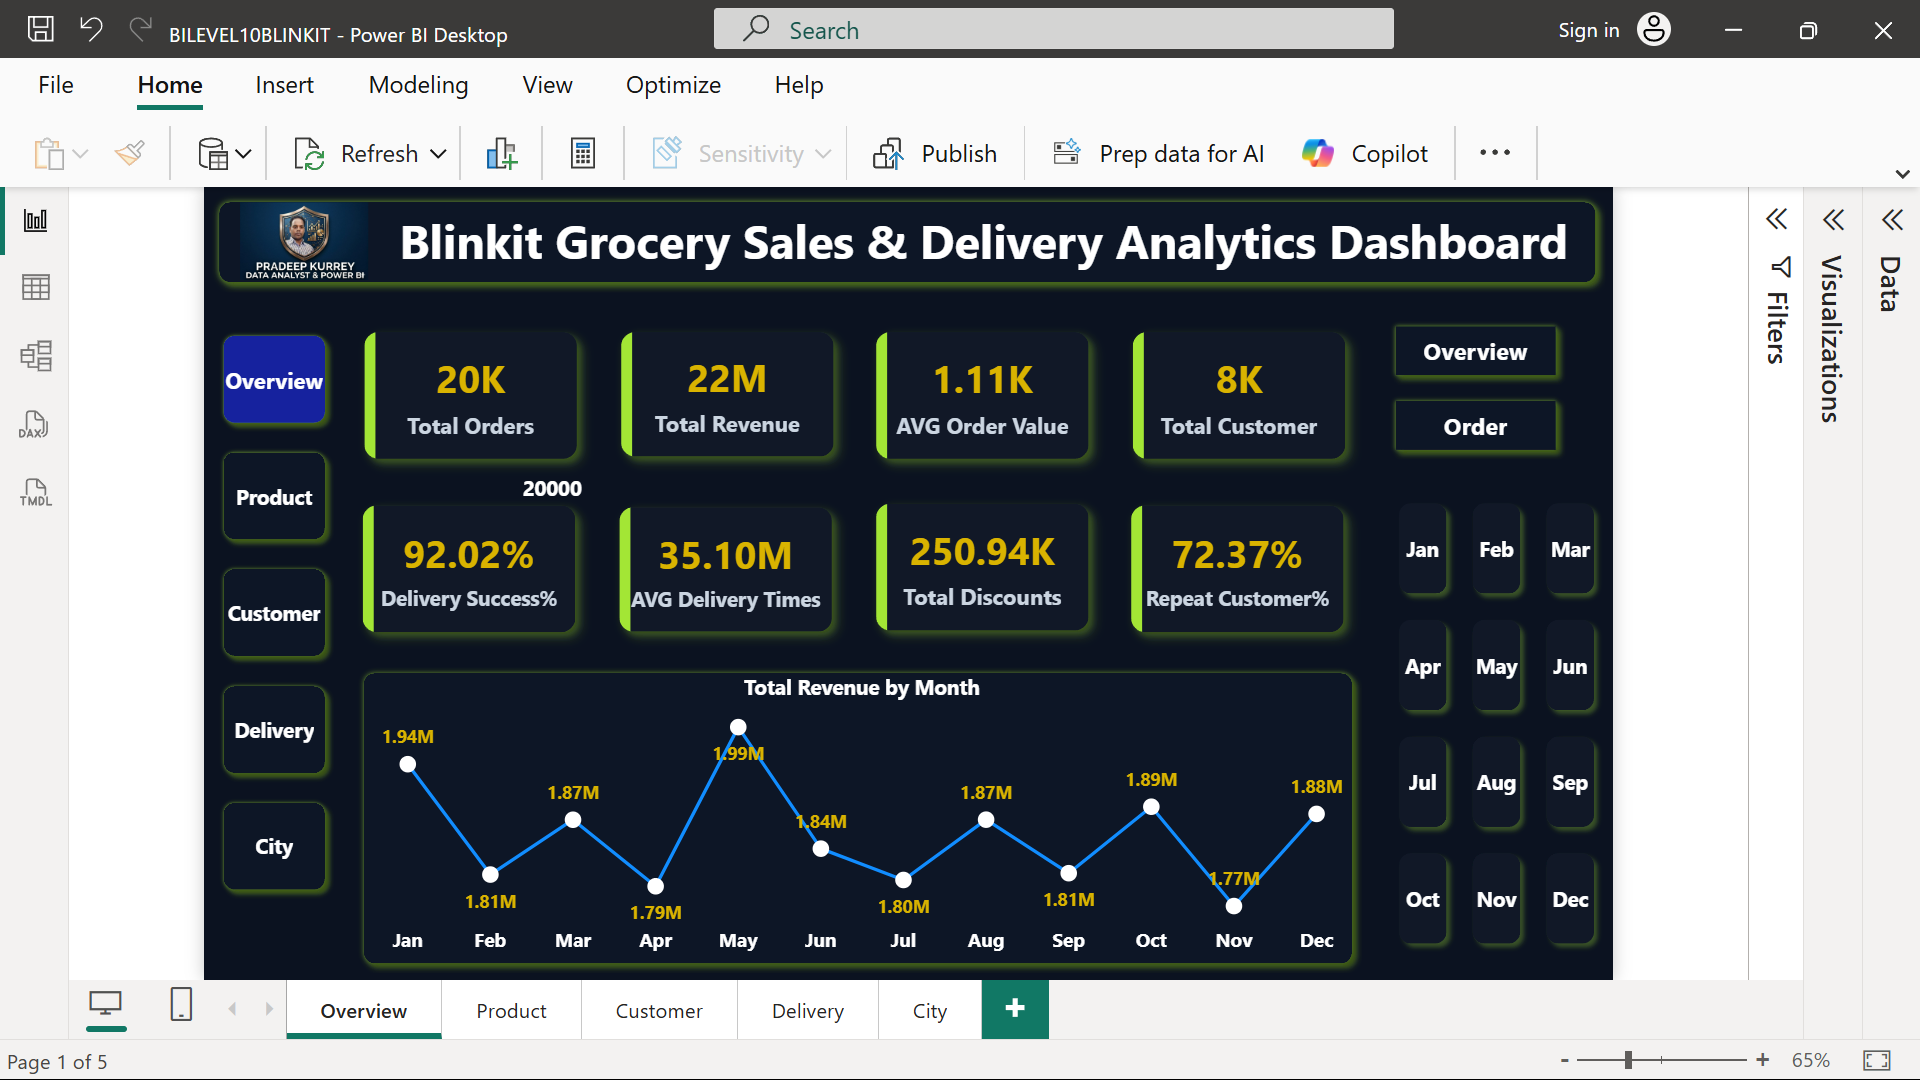

This screenshot's page, from the dashboard's own definition file:
{"tool":"powerbi","page":{"name":"Overview","canvas":[1280,720],"ordinal":0},"visuals":[{"type":"shape","box":[4.5,4.5,1268.2,90.9],"z":0},{"type":"textbox","box":[9.1,13.6,1247.7,70.5],"z":1000},{"type":"image","box":[9.1,13.6,163.6,70.5],"z":2000},{"type":"pageNavigator","box":[9.1,127.3,109.1,522.7],"z":4000},{"type":"shape","box":[136.4,431.8,915.9,281.8],"z":12000},{"type":"shape","box":[140.9,106.8,450,306.8],"z":14000},{"type":"shape","box":[604.5,104.5,450,306.8],"z":15000},{"type":"lineChart","fields":{"Category":["Date Table.Month"],"Y":["Date Table.Total Orders"]},"box":[145.5,440.9,895.4,263.6],"z":16000},{"type":"donutChart","fields":{"Y":["Date Table.Total Orders"],"Category":["Sheet1.Delivery_Status"]},"box":[143.2,115.9,445.4,288.6],"z":17000},{"type":"clusteredColumnChart","fields":{"Category":["Sheet1.Category"],"Y":["Date Table.Total Revenue"]},"box":[611.4,114.3,447.8,299.5],"z":18000},{"type":"actionButton","box":[1072.7,117.7,163.8,62.6],"z":19000},{"type":"actionButton","box":[1072.7,185.8,163.8,62.6],"z":20000},{"type":"advancedSlicerVisual","fields":{"Values":["Date Table.Month"]},"box":[1068.5,270.2,211.5,435.4],"z":21000},{"type":"textbox","box":[279.7,248.4,73.6,49.7],"z":22000}]}

Visuals, with their boxes on the page's 1280x720 design canvas (x1, y1, x2, y2). These are canvas units, not pixel positions in the 1920x1080 screenshot, which may show the page scaled, cropped or inside an application window:
shape: 4:4:1273:95
textbox: 9:14:1257:84
image: 9:14:173:84
pageNavigator: 9:127:118:650
shape: 136:432:1052:714
shape: 141:107:591:414
shape: 604:104:1054:411
lineChart - Date Table.Month x Date Table.Total Orders: 146:441:1041:704
donutChart - Date Table.Total Orders x Sheet1.Delivery_Status: 143:116:589:404
clusteredColumnChart - Sheet1.Category x Date Table.Total Revenue: 611:114:1059:414
actionButton: 1073:118:1236:180
actionButton: 1073:186:1236:248
advancedSlicerVisual - Date Table.Month: 1068:270:1280:706
textbox: 280:248:353:298
